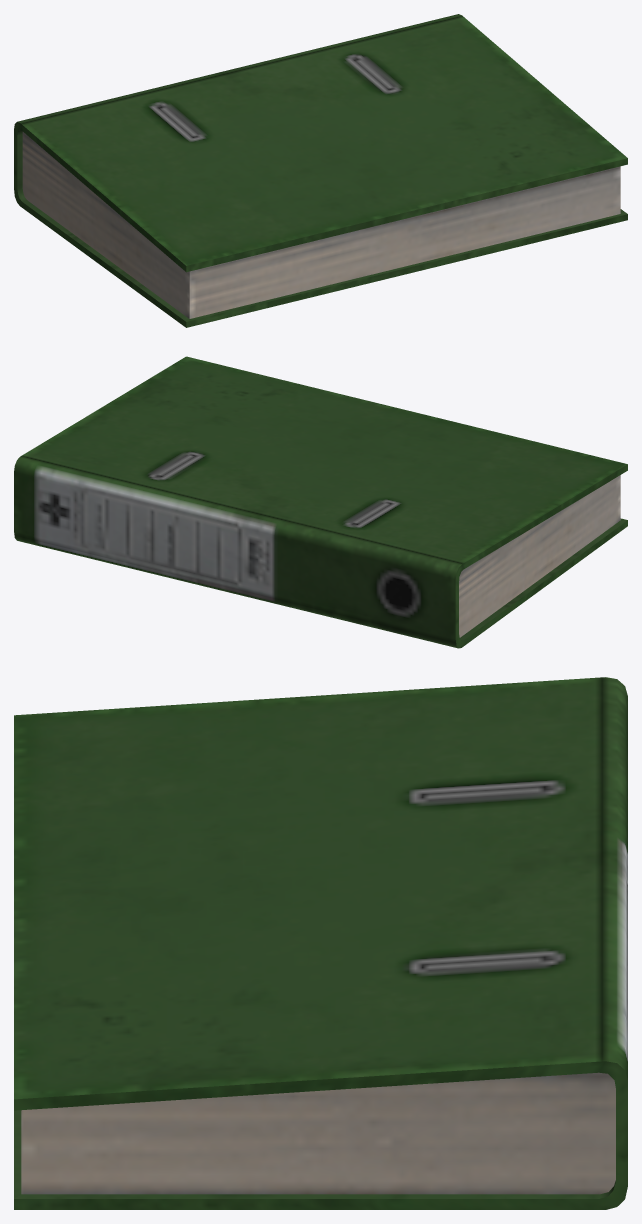
The model's file is HH_Registrar_Folder_02.fbx.
The picture shows the model from 3 angles, top to bottom: view 1: azimuth 30°, elevation 25°; view 2: azimuth 150°, elevation 25°; view 3: azimuth 270°, elevation 25°; orthographic projection. The views are drawn at different scales.
Visible parts, largest first — view 1: HH_Registrar_Folder_02; view 2: HH_Registrar_Folder_02; view 3: HH_Registrar_Folder_02.
Boxes of the visible parts, x1,y1,x2,y2 form: HH_Registrar_Folder_02: [14, 14, 627, 327]; HH_Registrar_Folder_02: [14, 356, 627, 648]; HH_Registrar_Folder_02: [14, 677, 627, 1209].
Size of the model in its own units: 46.94 by 8.47 by 31.71.
